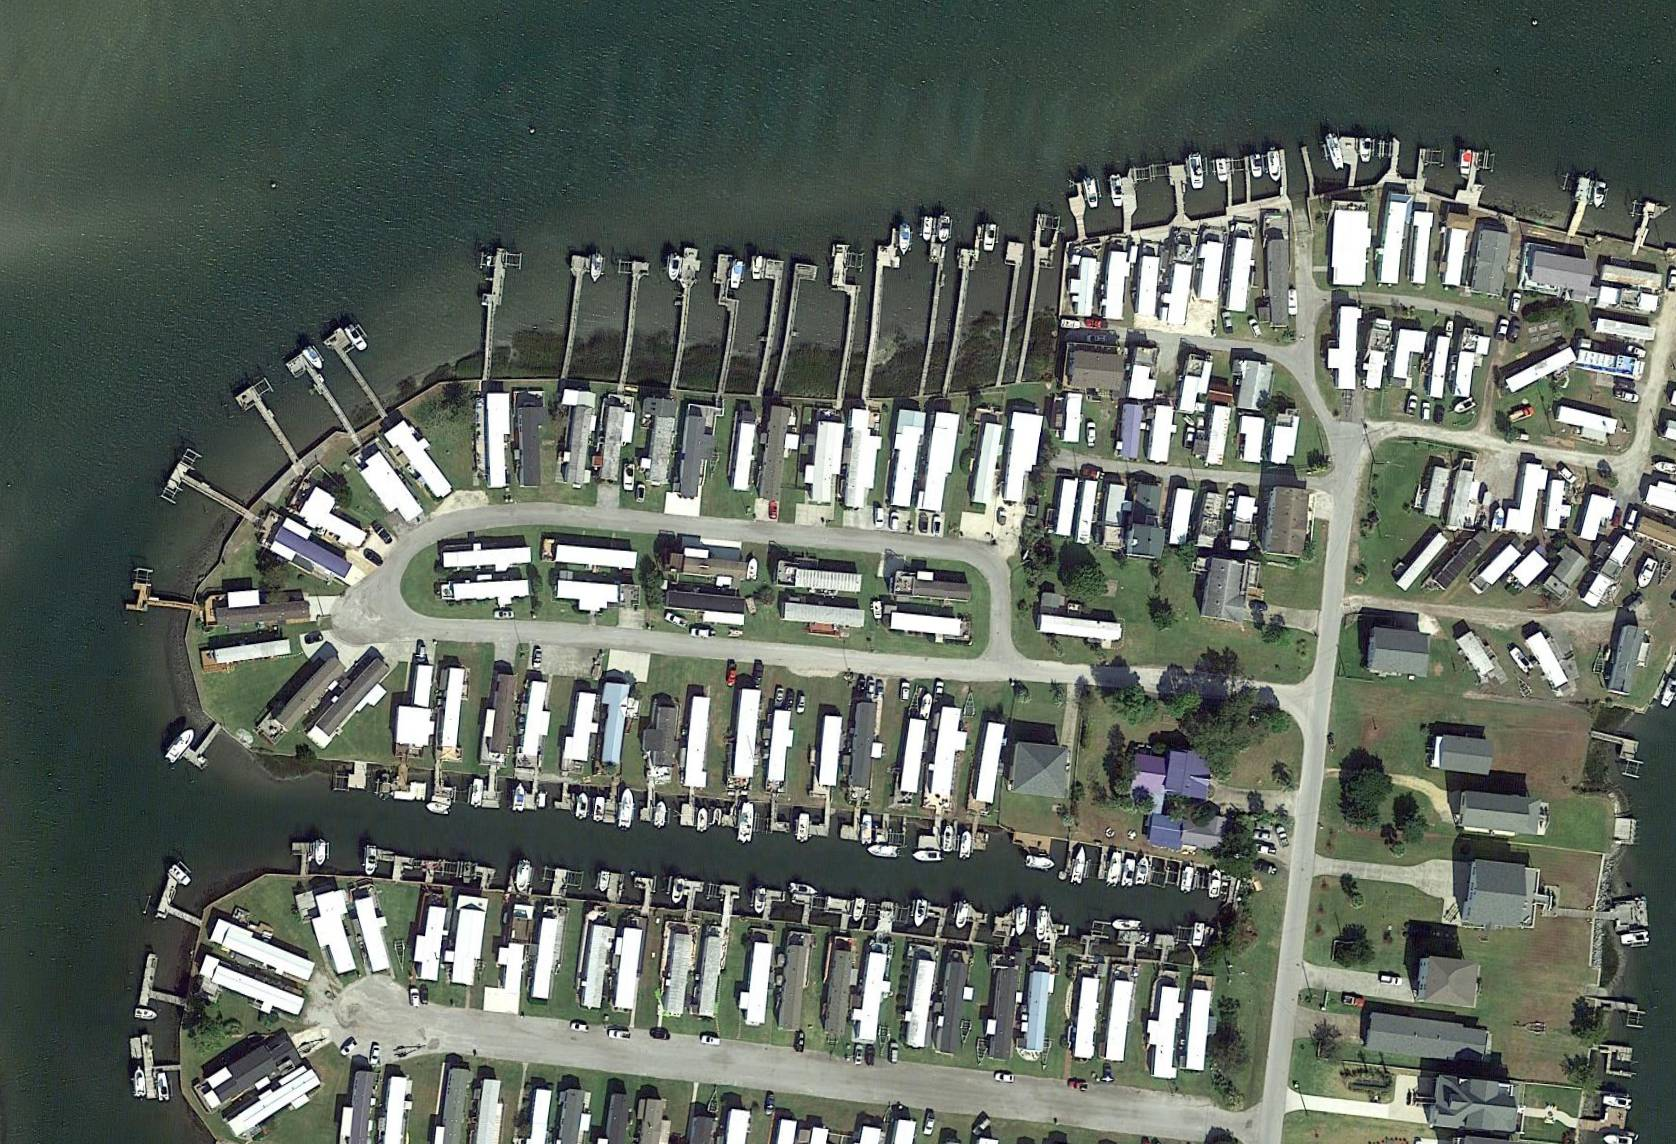harbor: (1063, 840, 1221, 906), (1015, 214, 1061, 380), (940, 220, 984, 389), (815, 245, 865, 395), (909, 217, 950, 392), (697, 255, 746, 394), (863, 228, 905, 391), (287, 353, 358, 448), (323, 327, 394, 420), (662, 247, 706, 387), (166, 462, 253, 531), (986, 241, 1026, 380), (744, 260, 785, 397), (1214, 149, 1294, 218), (776, 262, 819, 389), (236, 386, 301, 468), (555, 255, 593, 378), (475, 247, 508, 377), (616, 262, 651, 383), (155, 875, 211, 933), (1373, 136, 1428, 195), (139, 953, 190, 1014), (136, 1034, 181, 1098), (181, 715, 231, 771), (126, 582, 202, 618), (1454, 152, 1491, 206), (1007, 832, 1053, 871), (1330, 135, 1361, 189), (1566, 178, 1596, 236), (1066, 182, 1091, 240), (1118, 177, 1142, 232), (1076, 919, 1112, 955), (1168, 166, 1191, 223), (394, 764, 427, 803), (507, 856, 539, 896), (918, 808, 946, 852), (1631, 203, 1657, 248), (1298, 147, 1319, 197), (433, 759, 456, 805), (481, 766, 504, 810), (1116, 930, 1150, 959), (602, 778, 624, 824), (809, 797, 832, 838), (841, 803, 865, 841), (522, 769, 543, 812), (680, 787, 702, 827), (771, 795, 792, 833), (1153, 934, 1179, 964), (679, 880, 706, 911), (923, 906, 948, 939), (630, 876, 655, 910), (762, 890, 787, 921), (553, 782, 578, 813), (717, 884, 741, 916), (969, 814, 990, 851), (641, 782, 658, 823), (470, 865, 495, 890), (290, 845, 316, 870), (392, 855, 416, 882), (606, 873, 625, 904), (551, 869, 572, 898), (348, 762, 368, 789), (419, 860, 439, 884)
ship: (162, 724, 199, 766), (1323, 132, 1347, 172), (301, 341, 329, 373), (343, 324, 371, 355), (616, 787, 637, 831), (737, 801, 756, 843), (1188, 154, 1206, 192), (1070, 847, 1088, 885), (513, 860, 534, 892), (1084, 176, 1102, 211), (1105, 852, 1123, 887), (726, 259, 745, 290), (979, 223, 998, 254), (912, 898, 930, 930), (1591, 177, 1607, 210), (953, 899, 970, 930), (511, 782, 527, 814), (1267, 149, 1282, 183), (866, 845, 900, 860), (1026, 855, 1056, 873), (1179, 865, 1196, 896), (1133, 855, 1150, 885), (131, 1065, 146, 1097), (574, 792, 591, 822), (790, 882, 819, 898), (751, 887, 768, 916), (1121, 859, 1137, 888), (936, 215, 953, 245), (958, 831, 974, 860), (849, 897, 867, 924), (1111, 175, 1125, 208), (666, 256, 683, 284), (669, 879, 686, 904), (424, 799, 450, 817), (653, 800, 669, 829), (364, 847, 380, 876), (1035, 910, 1048, 944), (1012, 907, 1028, 935), (897, 223, 911, 254), (913, 848, 942, 862), (942, 826, 956, 854), (1209, 870, 1223, 897), (697, 805, 709, 834), (316, 840, 329, 868), (921, 217, 935, 242), (751, 259, 764, 280)
